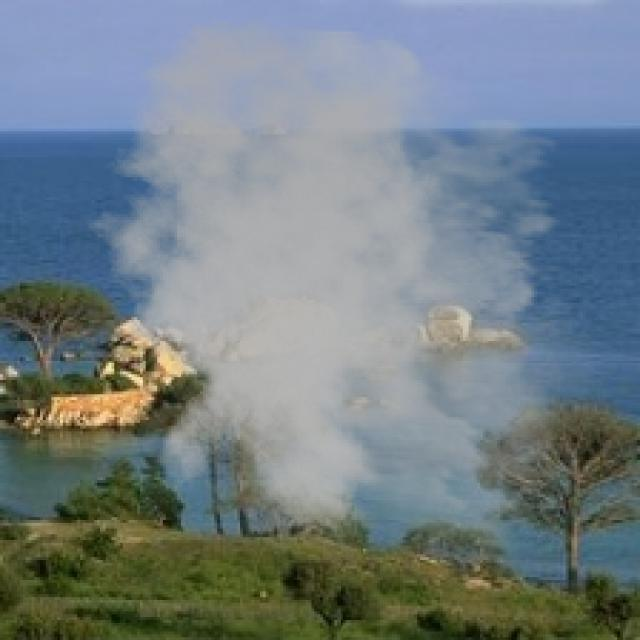smoke: (71, 17, 623, 583)
